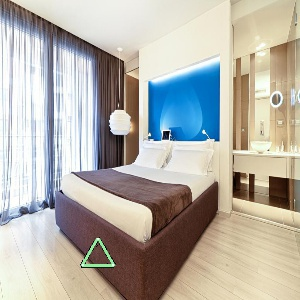triangle: (77, 234, 118, 271)
